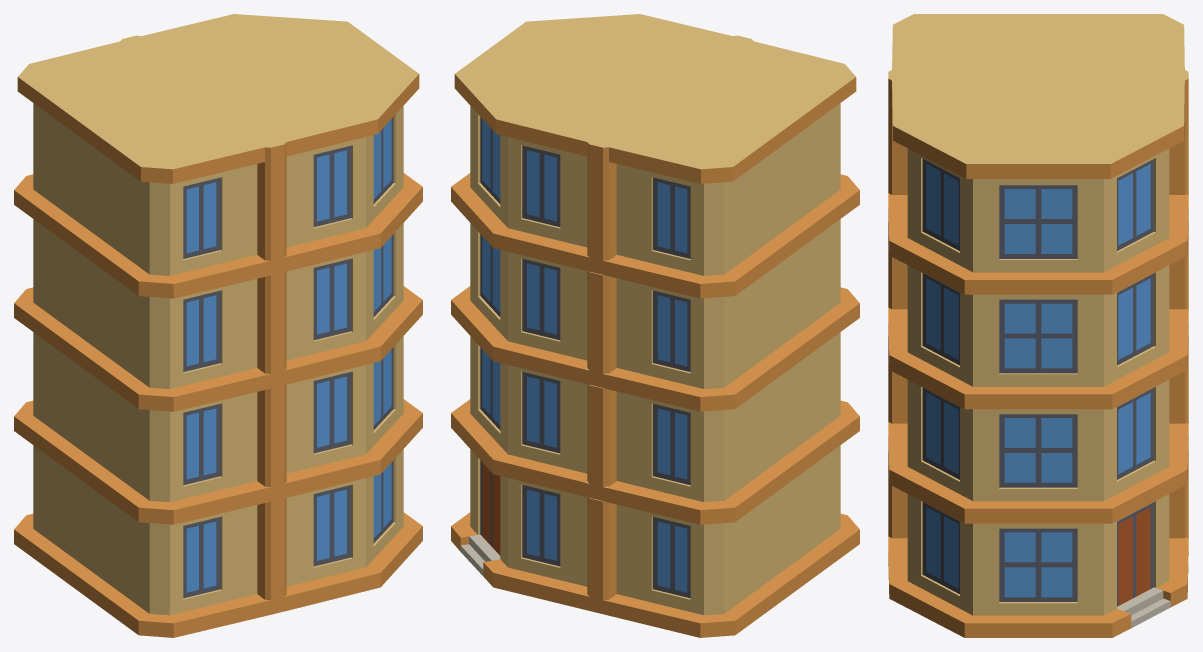
3 renders of one model, left to right at view 1: azimuth 30°, elevation 25°; view 2: azimuth 150°, elevation 25°; view 3: azimuth 270°, elevation 25°, orthographic.
Visible parts, largest first — view 1: Predio 10.002; view 2: Predio 10.002; view 3: Predio 10.002.
Part boxes in pixels (<box>): Predio 10.002: <box>14,14,422,637</box>; Predio 10.002: <box>451,14,859,637</box>; Predio 10.002: <box>888,14,1188,637</box>.
Size of the model in its own units: 6649 by 9571 by 5520.
